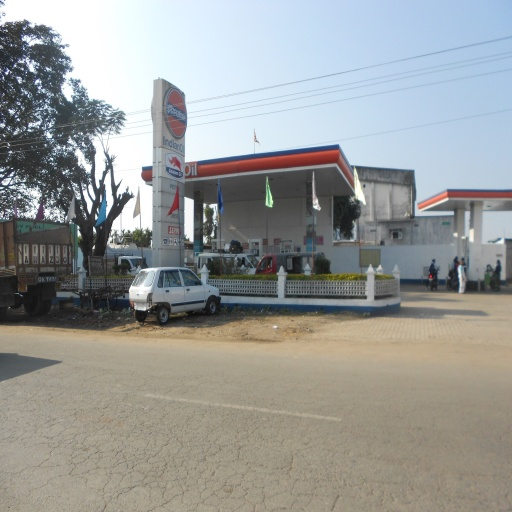roof: (139, 141, 357, 209)
